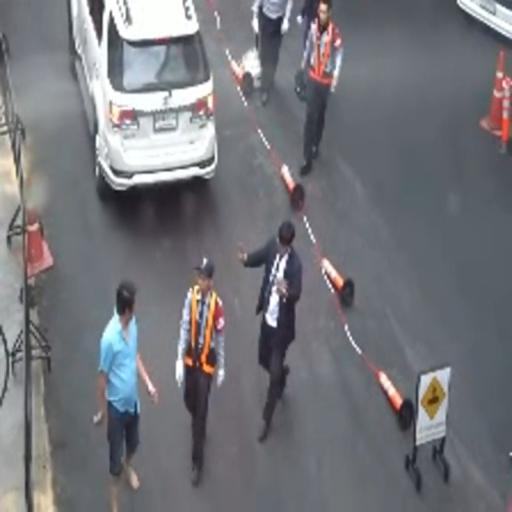nao-violencia: (157, 215, 316, 492)
